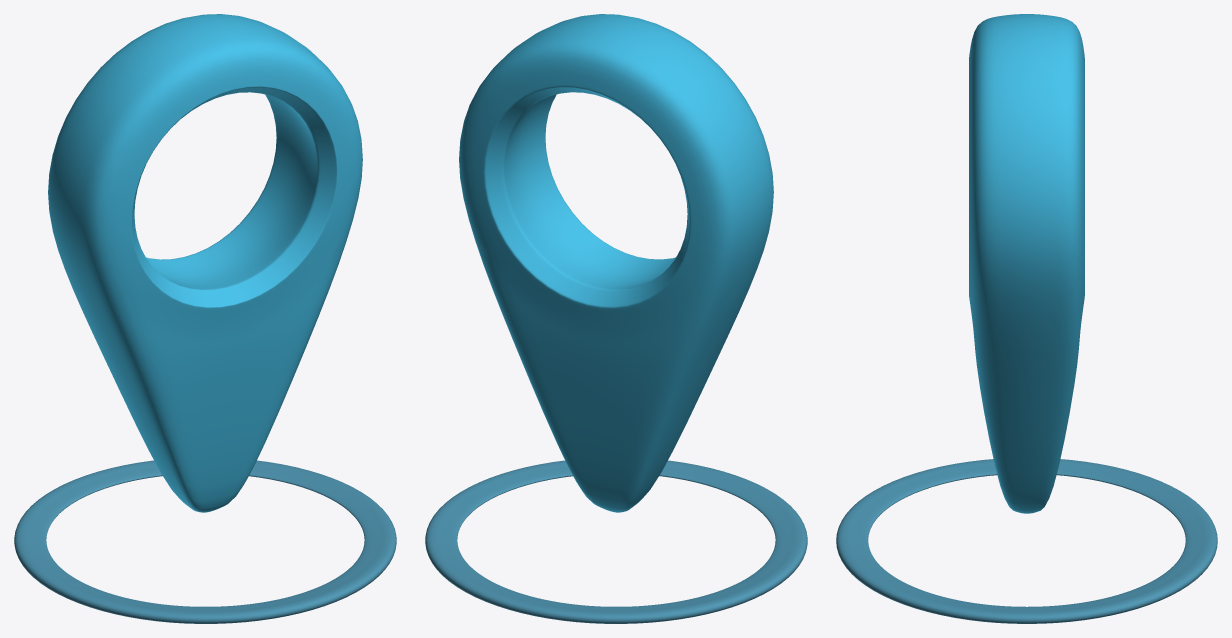
Rendered from my_arrow1.glb.
The picture shows the model from 3 angles, left to right: view 1: azimuth 30°, elevation 25°; view 2: azimuth 150°, elevation 25°; view 3: azimuth 270°, elevation 25°; orthographic projection.
Visible parts, largest first — view 1: logo_3D_pCube2, logo_3D_pTorus1; view 2: logo_3D_pCube2, logo_3D_pTorus1; view 3: logo_3D_pCube2, logo_3D_pTorus1.
Boxes of the visible parts, x1,y1,x2,y2 form: logo_3D_pCube2: [48, 14, 362, 512]; logo_3D_pTorus1: [14, 460, 396, 623]; logo_3D_pCube2: [459, 14, 773, 512]; logo_3D_pTorus1: [425, 460, 807, 623]; logo_3D_pCube2: [969, 14, 1084, 513]; logo_3D_pTorus1: [836, 459, 1217, 623].
Size of the model in its own units: 2.23 by 3.33 by 2.23.
